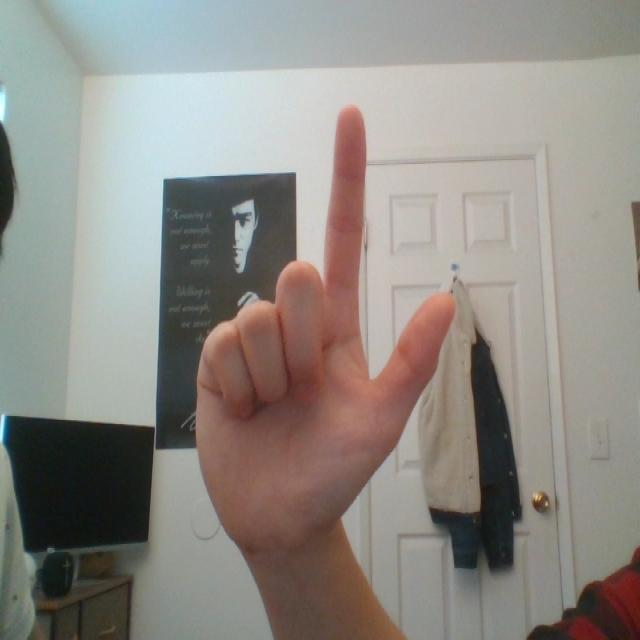L: (161, 87, 481, 533)
